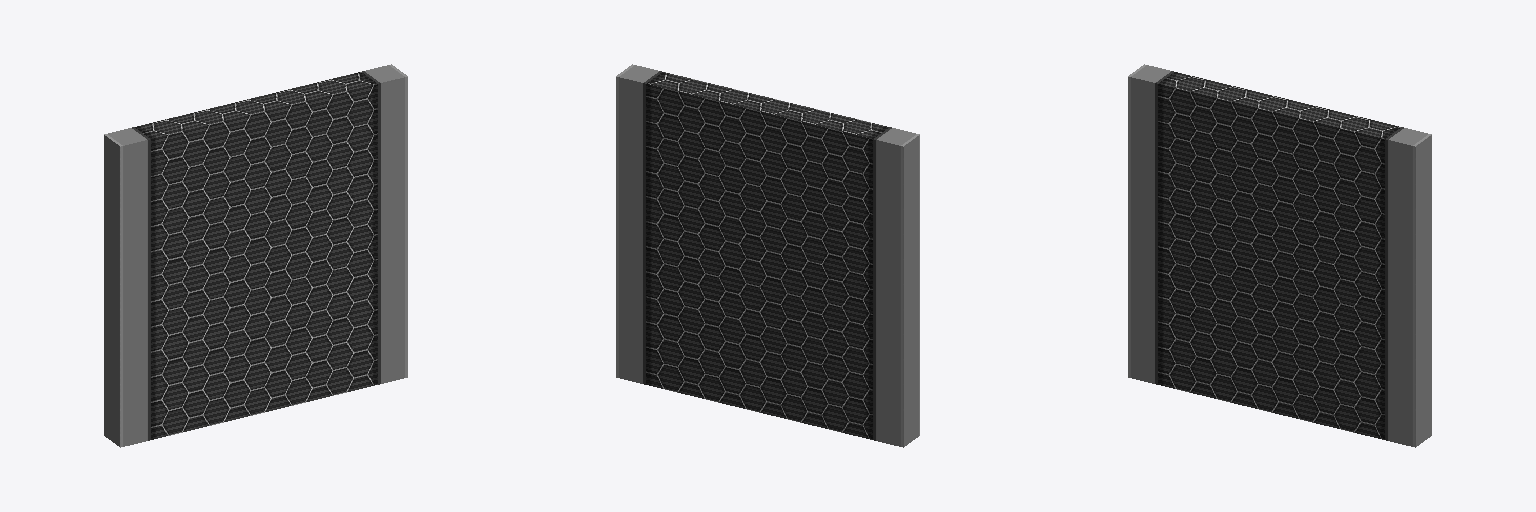
The picture shows the model from 3 angles: view 1: azimuth 30°, elevation 25°; view 2: azimuth 150°, elevation 25°; view 3: azimuth 330°, elevation 25°; orthographic projection.
Parts seen in each view (by area): view 1: Walkway_Straight; view 2: Walkway_Straight; view 3: Walkway_Straight.
Boxes of the visible parts, x1,y1,x2,y2 form: Walkway_Straight: [104, 64, 407, 447]; Walkway_Straight: [616, 64, 919, 447]; Walkway_Straight: [1128, 64, 1431, 447].
Bounding box in the file's own units: 1524 × 1524 × 152.
Materials: 1 (1 with a texture image).